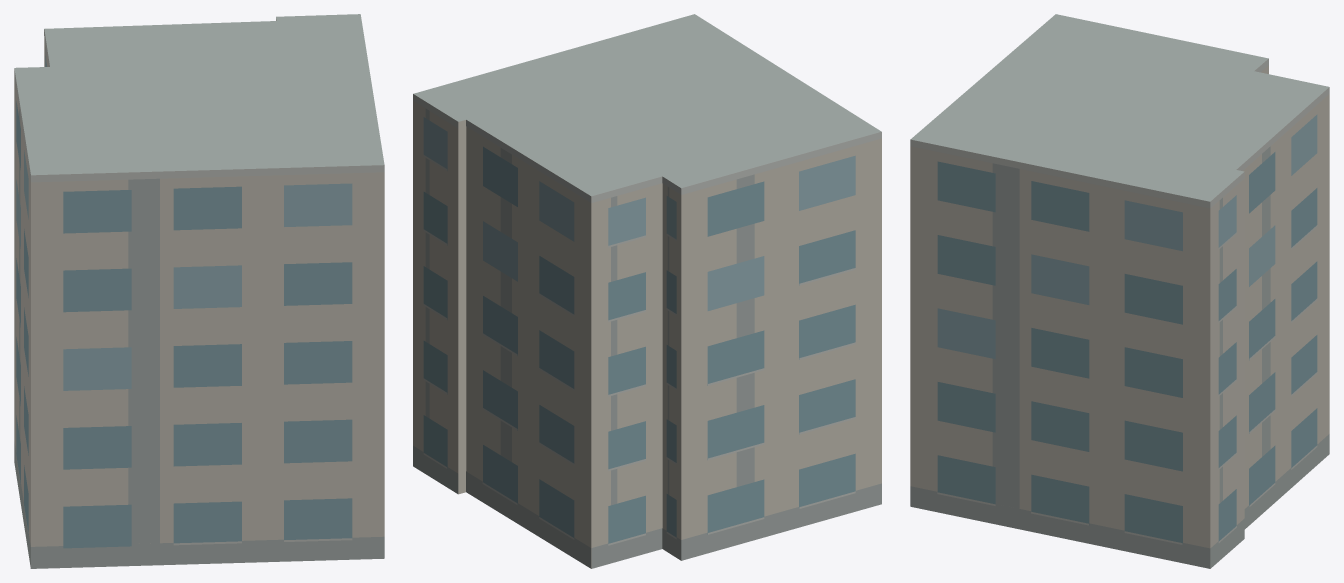
Rendered from survey-upis-32632102.glb.
3 views of the same model, side by side, from view 1: azimuth 30°, elevation 25°; view 2: azimuth 150°, elevation 25°; view 3: azimuth 270°, elevation 25° (orthographic). The views are drawn at different scales.
Visible parts, largest first — view 1: survey-upis-32632102.tmp; view 2: survey-upis-32632102.tmp; view 3: survey-upis-32632102.tmp.
Part boxes in pixels (<box>): survey-upis-32632102.tmp: <box>14,14,384,568</box>; survey-upis-32632102.tmp: <box>413,14,881,568</box>; survey-upis-32632102.tmp: <box>910,14,1329,568</box>.
Size of the model in its own units: 14.71 by 13.4 by 13.88.
